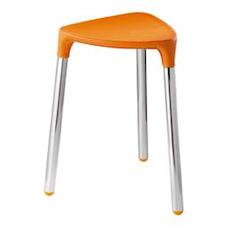chair: (6, 5, 199, 218)
